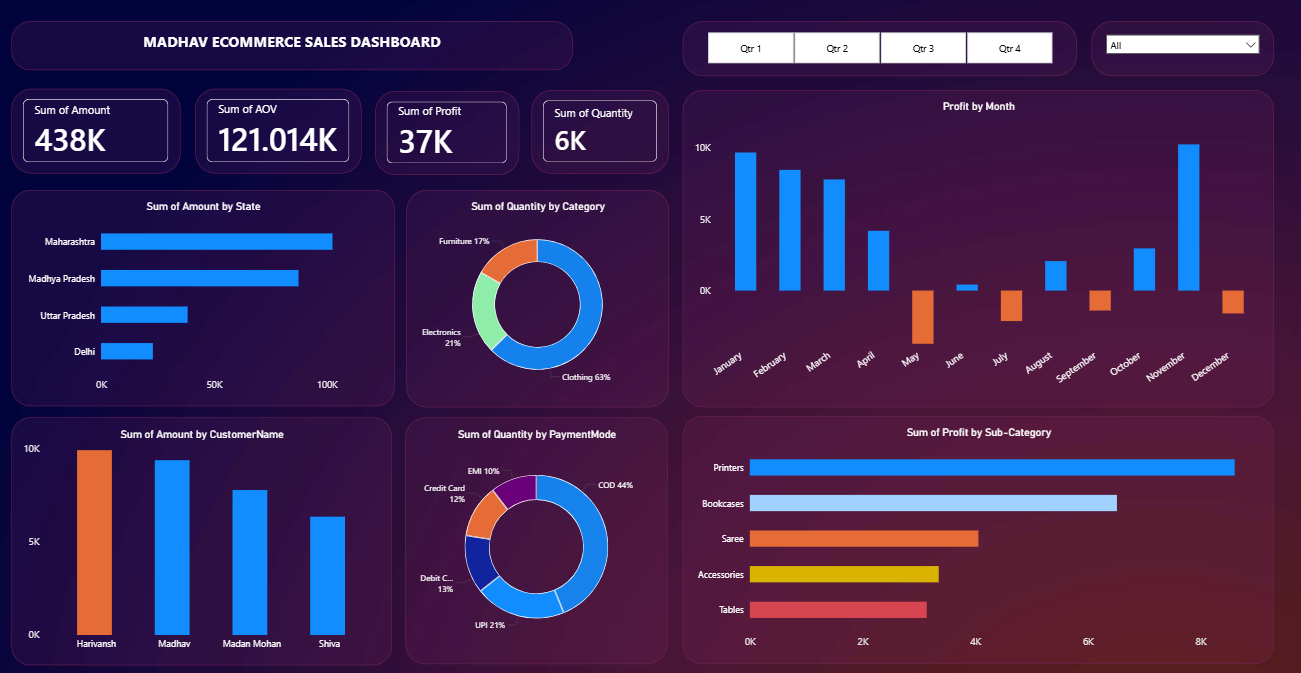

The dashboard page shown, as its layout file describes it:
{"tool":"powerbi","page":{"name":"Page 1","canvas":[1920,1080],"ordinal":0},"visuals":[{"type":"textbox","box":[10,213.8,507.5,32.5],"z":0},{"type":"textbox","box":[10,290,280,280],"z":1000},{"type":"textbox","box":[10,580,280,280],"z":2000},{"type":"textbox","box":[10,870,280,210],"z":3000},{"type":"textbox","box":[300,0,280,280],"z":4000},{"type":"columnChart","title":"Profit by Month","fields":{"Category":["Orders.Order Date.Variation.Date Hierarchy.Month"],"Y":["Sum(Details.Profit)"]},"box":[1006.8,169.3,870.6,467.5],"z":5000},{"type":"barChart","fields":{"Category":["Details.Sub-Category"],"Y":["Sum(Details.Profit)"]},"box":[1006.8,649.7,870.6,364.4],"z":6000},{"type":"donutChart","fields":{"Category":["Details.Category"],"Y":["Sum(Details.Quantity)"]},"box":[600,316,386,320],"z":7000},{"type":"donutChart","fields":{"Category":["Details.PaymentMode"],"Y":["Sum(Details.Quantity)"]},"box":[598.3,651.7,386.7,363.3],"z":8000},{"type":"cardVisual","fields":{"Data":["Sum(Details.Amount)"]},"box":[36.8,167.5,230.1,125.2],"z":9000},{"type":"cardVisual","fields":{"Data":["Sum(Details.Quantity)"]},"box":[743.6,169.3,202,124],"z":10000},{"type":"cardVisual","fields":{"Data":["Sum(Details.AOV)"]},"box":[298.2,167.5,195.1,125.2],"z":11000},{"type":"cardVisual","fields":{"Data":["Sum(Details.Profit)"]},"box":[517.2,169.3,198,124],"z":12000},{"type":"barChart","fields":{"Category":["Orders.State"],"Y":["Sum(Details.Amount)"]},"box":[18,316,564,318],"z":13000},{"type":"columnChart","fields":{"Category":["Orders.CustomerName"],"Y":["Sum(Details.Amount)"]},"box":[17.8,651.1,560,364.4],"z":14000},{"type":"textbox","box":[600,270,167,320],"z":15000},{"type":"textbox","box":[600,652,166,364],"z":16000},{"type":"textbox","box":[36.8,68.1,808,71.8],"z":17000},{"type":"slicer","fields":{"Values":["Orders.Order Date.Variation.Date Hierarchy.Quarter"]},"box":[1006.8,68.1,579.8,81],"z":18000},{"type":"slicer","fields":{"Values":["Orders.State"]},"box":[1608.6,68.1,268.7,81],"z":19000}]}

Visuals, with their boxes on the page's 1920x1080 design canvas (x1, y1, x2, y2). These are canvas units, not pixel positions in the 1301x673 screenshot, which may show the page scaled, cropped or inside an application window:
textbox: detection(10, 214, 518, 246)
textbox: detection(10, 290, 290, 570)
textbox: detection(10, 580, 290, 860)
textbox: detection(10, 870, 290, 1080)
textbox: detection(300, 0, 580, 280)
"Profit by Month" columnChart: detection(1007, 169, 1877, 637)
barChart - Details.Sub-Category x Sum(Details.Profit): detection(1007, 650, 1877, 1014)
donutChart - Details.Category x Sum(Details.Quantity): detection(600, 316, 986, 636)
donutChart - Details.PaymentMode x Sum(Details.Quantity): detection(598, 652, 985, 1015)
cardVisual - Sum(Details.Amount): detection(37, 168, 267, 293)
cardVisual - Sum(Details.Quantity): detection(744, 169, 946, 293)
cardVisual - Sum(Details.AOV): detection(298, 168, 493, 293)
cardVisual - Sum(Details.Profit): detection(517, 169, 715, 293)
barChart - Orders.State x Sum(Details.Amount): detection(18, 316, 582, 634)
columnChart - Orders.CustomerName x Sum(Details.Amount): detection(18, 651, 578, 1016)
textbox: detection(600, 270, 767, 590)
textbox: detection(600, 652, 766, 1016)
textbox: detection(37, 68, 845, 140)
slicer - Orders.Order Date.Variation.Date Hierarchy.Quarter: detection(1007, 68, 1587, 149)
slicer - Orders.State: detection(1609, 68, 1877, 149)
